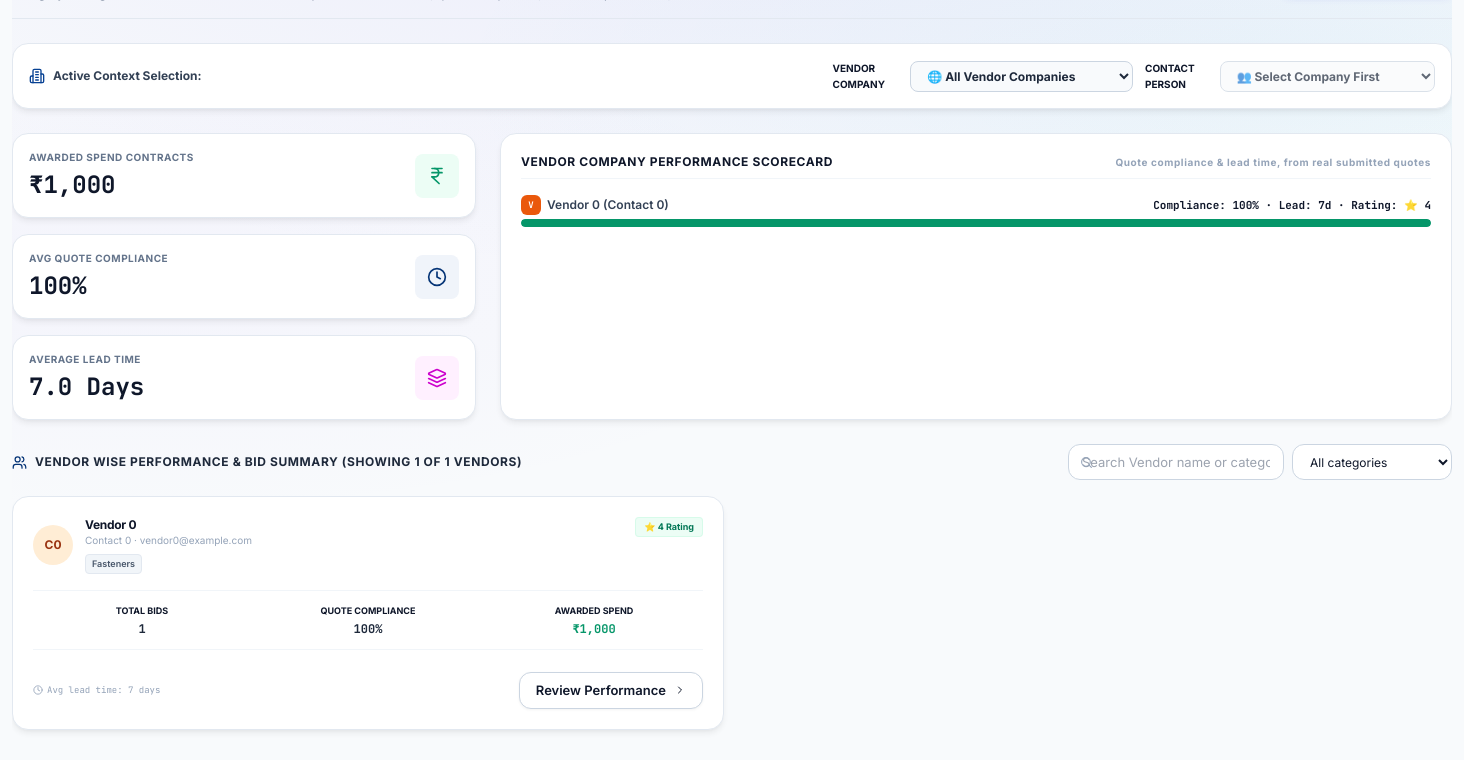
VendorConsole — pagination over a large vendor roster › shows real avg lead time / quote compliance and expands quote detail with a compliance badge
Expected: the text "Vendor 0" is shown, [85, 517, 136, 532]
Expected: the text "Avg lead time: 7 days" is shown, [33, 684, 160, 697]
Click the button "Review Performance" at (611, 690), box [519, 672, 703, 709]
(page scrolled)
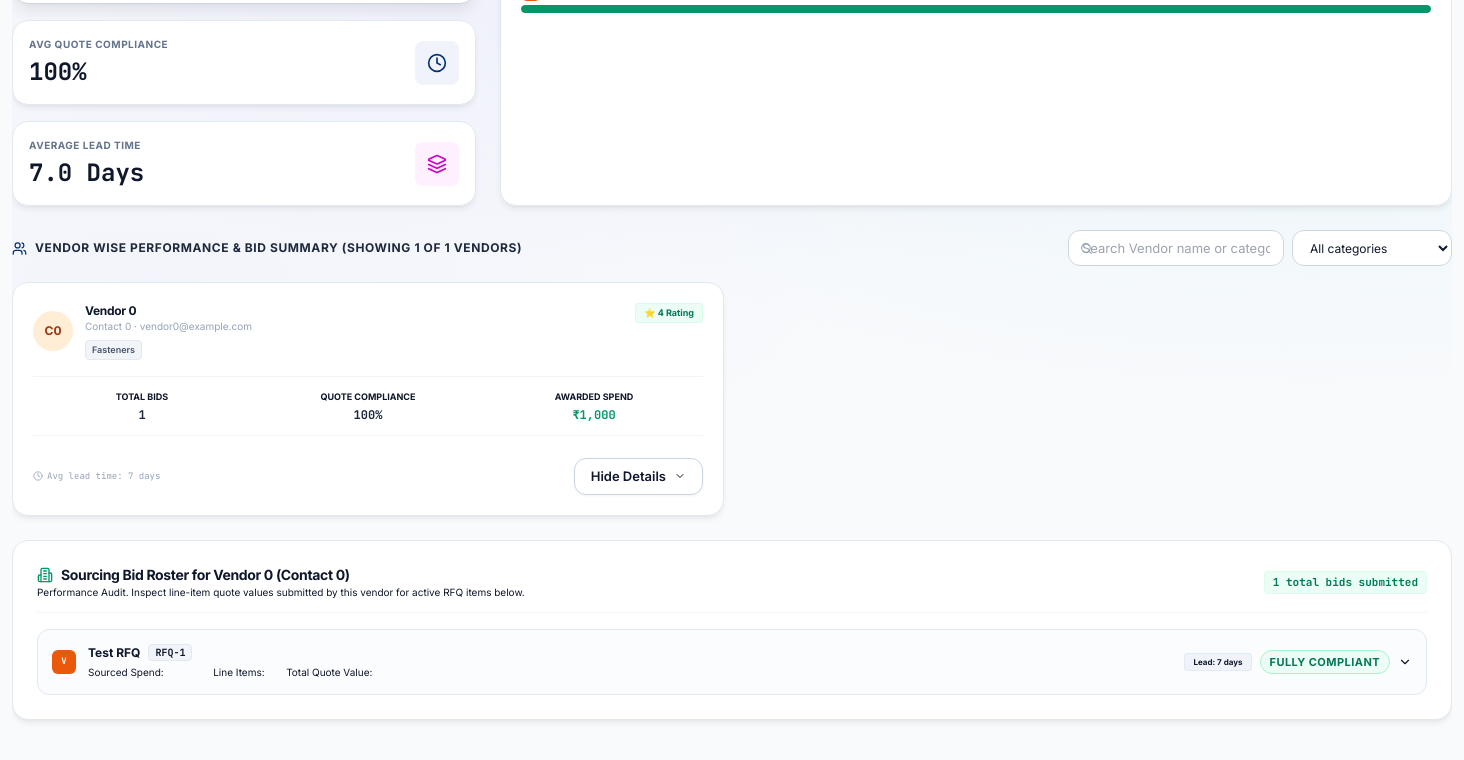
Expected: the text "Avg lead time: 7 days" is shown, [33, 470, 160, 483]
Result: the text "Fully Compliant" is shown at [1260, 650, 1390, 674]
